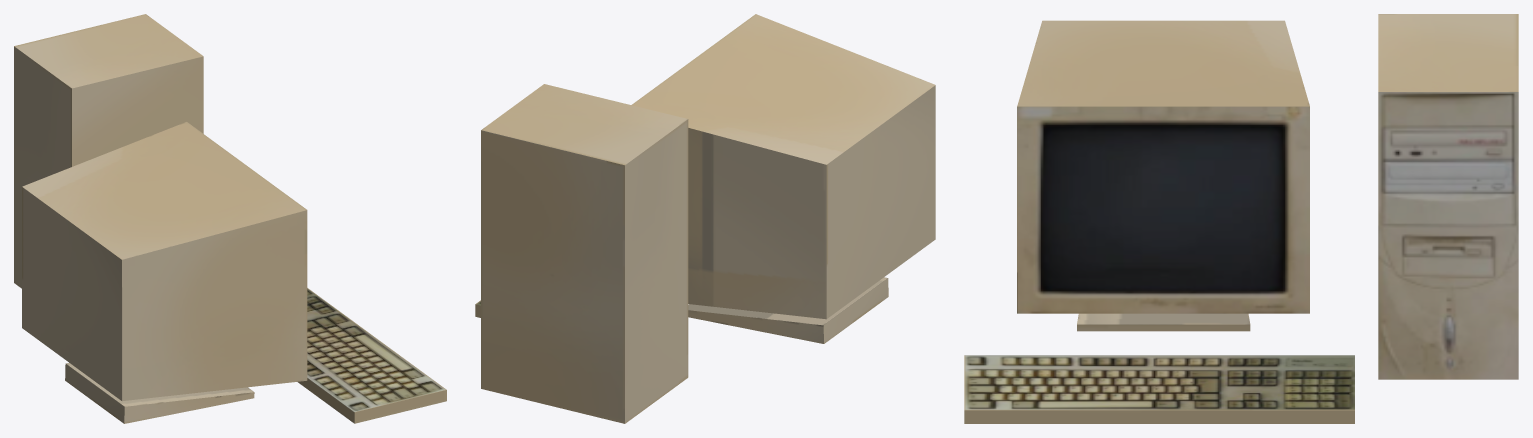
The model's file is old_computer.glb.
The picture shows the model from 3 angles, left to right: view 1: azimuth 30°, elevation 25°; view 2: azimuth 150°, elevation 25°; view 3: azimuth 270°, elevation 25°; orthographic projection. The views are drawn at different scales.
Parts seen in each view (by area): view 1: desk; view 2: desk; view 3: desk.
Boxes of the visible parts, x1,y1,x2,y2 form: desk: [14, 14, 446, 423]; desk: [475, 14, 935, 423]; desk: [964, 14, 1518, 423].
Size of the model in its own units: 2.75 by 2.14 by 3.72.
Materials: 1 (1 with a texture image).
